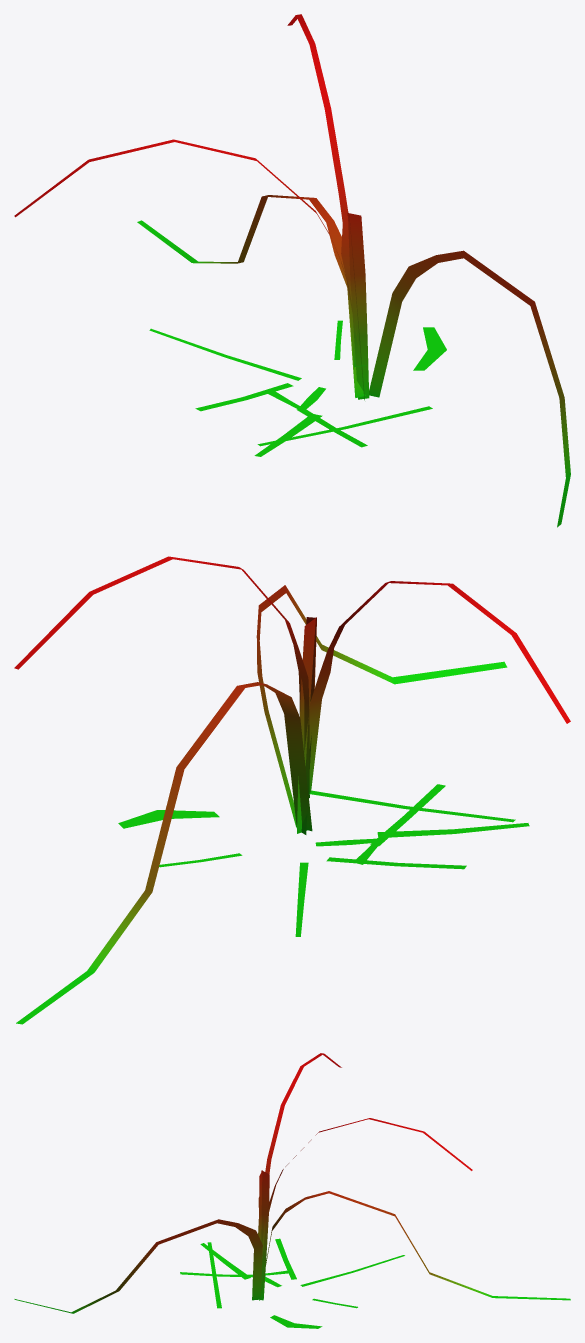
The model's file is Sea Wheatgrass_LOD2_Var21_ui2oagjia.fbx.
The picture shows the model from 3 angles, top to bottom: view 1: azimuth 30°, elevation 25°; view 2: azimuth 150°, elevation 25°; view 3: azimuth 270°, elevation 25°; orthographic projection. The views are drawn at different scales.
Parts seen in each view (by area): view 1: _wx26_Var21_LOD2; view 2: _wx26_Var21_LOD2; view 3: _wx26_Var21_LOD2.
Part boxes in pixels (box(x1,y1,x2,y2)): _wx26_Var21_LOD2: box(14, 14, 570, 527); _wx26_Var21_LOD2: box(14, 556, 570, 1024); _wx26_Var21_LOD2: box(14, 1053, 570, 1328).
Bounding box in the file's own units: 31.44 × 21.48 × 56.58.
